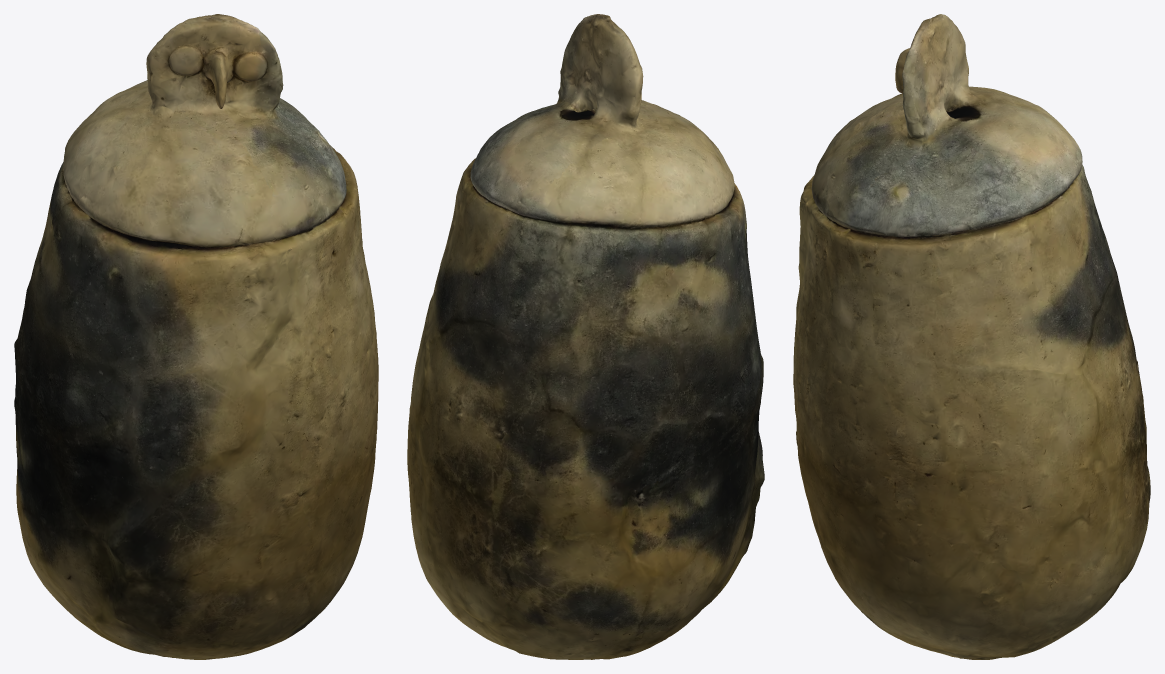
3 renders of one model, left to right at view 1: azimuth 30°, elevation 25°; view 2: azimuth 150°, elevation 25°; view 3: azimuth 270°, elevation 25°, orthographic. The views are drawn at different scales.
Parts seen in each view (by area): view 1: Mesh_0.023; view 2: Mesh_0.023; view 3: Mesh_0.023.
Part boxes in pixels (x1,y1,x2,y2): Mesh_0.023: [14, 14, 378, 659]; Mesh_0.023: [407, 14, 764, 659]; Mesh_0.023: [793, 14, 1150, 659].
Size of the model in its own units: 0.1842 by 0.3535 by 0.1892.
Materials: 1 (1 with a texture image).
